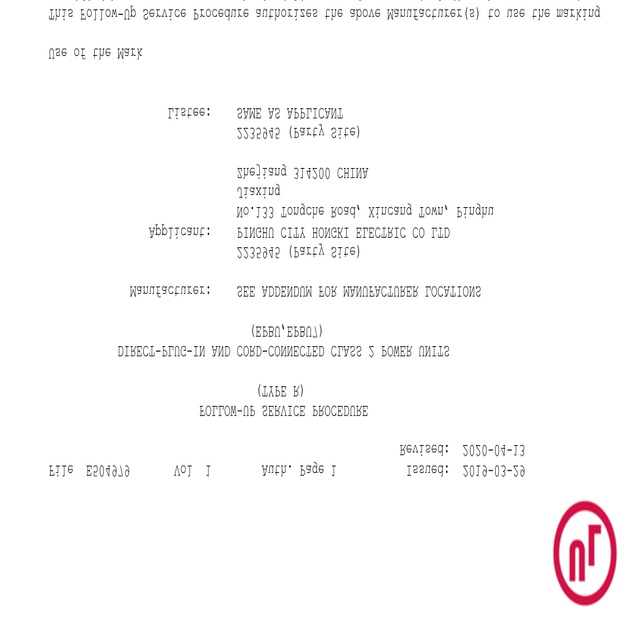ul: (552, 500, 618, 607)
